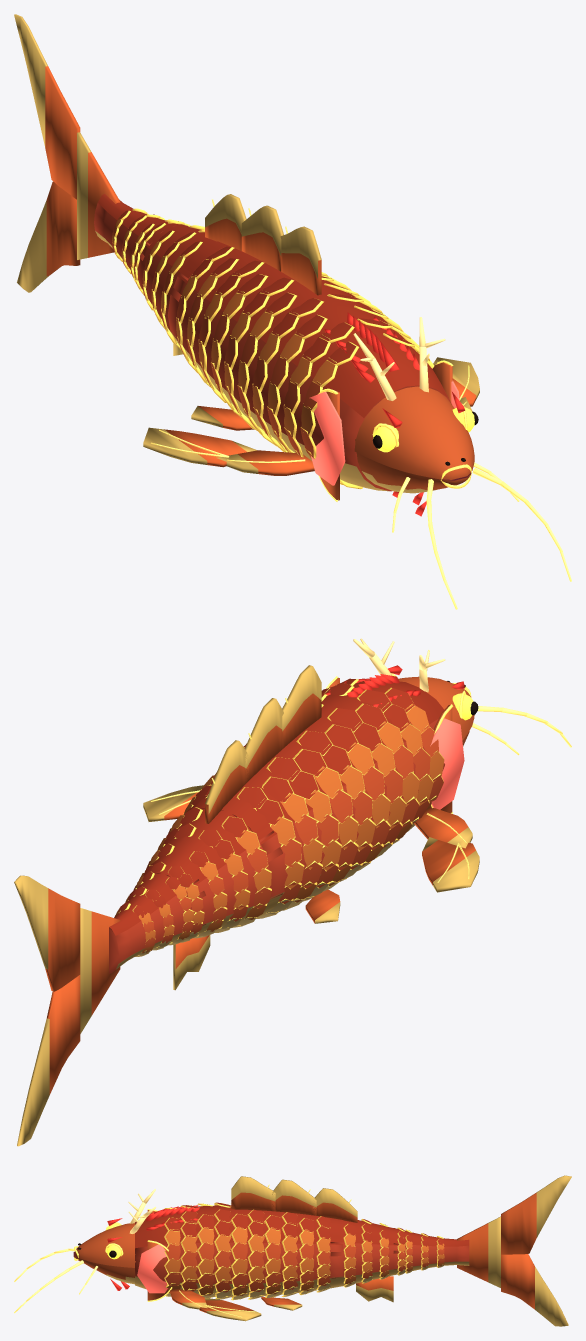
File: cachep.glb
3 renders of one model, top to bottom at view 1: azimuth 30°, elevation 25°; view 2: azimuth 150°, elevation 25°; view 3: azimuth 270°, elevation 25°, orthographic. The views are drawn at different scales.
Visible parts, largest first — view 1: BODY, CAUDAL, HEAD, TAIL, FIN_FL2, DORSAL_0, DORSAL_1, JAW, FIN_FL, DORSAL_2, FIN_FR2, FIN_BL; view 2: BODY, TAIL, CAUDAL, HEAD, FIN_FL2, DORSAL_0, DORSAL_1, DORSAL_2, FIN_FL, FIN_FR2, FIN_BL; view 3: BODY, CAUDAL, TAIL, HEAD, DORSAL_0, DORSAL_1, DORSAL_2, FIN_FR2, JAW, FIN_FR, FIN_BR, GILL_R.
Part boxes in pixels (bbox=[...]): BODY: bbox=[167, 241, 459, 491]; CAUDAL: bbox=[14, 14, 120, 292]; HEAD: bbox=[353, 317, 478, 479]; TAIL: bbox=[94, 194, 224, 355]; FIN_FL2: bbox=[143, 427, 256, 467]; DORSAL_0: bbox=[280, 226, 321, 295]; DORSAL_1: bbox=[241, 205, 283, 271]; JAW: bbox=[356, 453, 471, 516]; FIN_FL: bbox=[216, 450, 314, 475]; DORSAL_2: bbox=[205, 194, 246, 250]; FIN_FR2: bbox=[433, 357, 479, 406]; FIN_BL: bbox=[191, 406, 254, 430]; BODY: bbox=[183, 674, 464, 918]; TAIL: bbox=[109, 798, 282, 990]; CAUDAL: bbox=[14, 875, 120, 1146]; HEAD: bbox=[353, 638, 478, 740]; FIN_FL2: bbox=[422, 837, 479, 892]; DORSAL_0: bbox=[282, 665, 321, 748]; DORSAL_1: bbox=[245, 698, 283, 783]; DORSAL_2: bbox=[205, 740, 248, 823]; FIN_FL: bbox=[414, 807, 472, 848]; FIN_FR2: bbox=[143, 785, 203, 821]; FIN_BL: bbox=[305, 889, 340, 923]; BODY: bbox=[135, 1202, 343, 1300]; CAUDAL: bbox=[457, 1175, 571, 1326]; TAIL: bbox=[330, 1219, 469, 1302]; HEAD: bbox=[74, 1189, 155, 1267]; DORSAL_0: bbox=[231, 1176, 275, 1211]; DORSAL_1: bbox=[272, 1179, 316, 1215]; DORSAL_2: bbox=[313, 1188, 357, 1222]; FIN_FR2: bbox=[199, 1297, 261, 1321]; JAW: bbox=[73, 1251, 134, 1290]; FIN_FR: bbox=[170, 1289, 207, 1309]; FIN_BR: bbox=[261, 1296, 302, 1310]; GILL_R: bbox=[147, 1240, 172, 1301].
Bounding box in the file's own units: 67 × 52.64 × 177.
